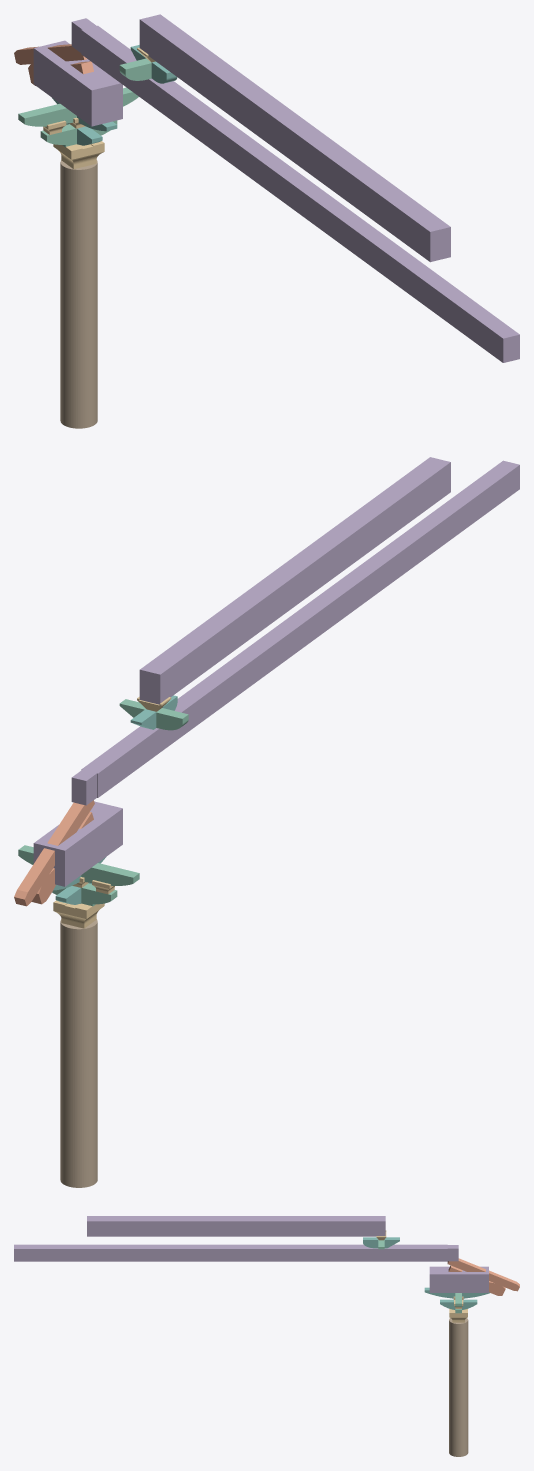
File: WANFO_EAST_FRONT_CONNECTED_C02_SEED.glb
3 renders of one model, top to bottom at view 1: azimuth 30°, elevation 25°; view 2: azimuth 150°, elevation 25°; view 3: azimuth 270°, elevation 25°, orthographic. The views are drawn at different scales.
Visible parts, largest first — view 1: trial:EAST_UPPER6_FULL_BEAM_CANDIDATE, east:FOUR_BEAM, trial:EAST_FRONT_COLUMN_CANDIDATE, trial:EAST_FRONT_LOWER6_END_SEGMENT, trial:EAST_FRONT_TRANSVERSE_MANGONG, trial:EAST_FRONT_COLUMN_LUDOU, trial:EAST_FRONT_ER_ANG_LOCAL, trial:EAST_FRONT_NIDAO_GUAZI, trial:EAST_FRONT_SPACER_LINGGONG, trial:EAST_FRONT_SPACER_HUAGONG; view 2: trial:EAST_UPPER6_FULL_BEAM_CANDIDATE, east:FOUR_BEAM, trial:EAST_FRONT_COLUMN_CANDIDATE, trial:EAST_FRONT_LOWER6_END_SEGMENT, trial:EAST_FRONT_ER_ANG_LOCAL, trial:EAST_FRONT_TRANSVERSE_MANGONG, trial:EAST_FRONT_COLUMN_LUDOU, trial:EAST_FRONT_SPACER_LINGGONG; view 3: trial:EAST_UPPER6_FULL_BEAM_CANDIDATE, east:FOUR_BEAM, trial:EAST_FRONT_COLUMN_CANDIDATE, trial:EAST_FRONT_LOWER6_END_SEGMENT, trial:EAST_FRONT_ER_ANG_LOCAL, trial:EAST_FRONT_SPACER_HUAGONG.
Part boxes in pixels (box(x1,y1,x2,y2)): trial:EAST_UPPER6_FULL_BEAM_CANDIDATE: box(71, 18, 519, 362); east:FOUR_BEAM: box(139, 14, 450, 262); trial:EAST_FRONT_COLUMN_CANDIDATE: box(60, 160, 97, 428); trial:EAST_FRONT_LOWER6_END_SEGMENT: box(33, 40, 122, 126); trial:EAST_FRONT_TRANSVERSE_MANGONG: box(18, 87, 138, 126); trial:EAST_FRONT_COLUMN_LUDOU: box(53, 141, 104, 169); trial:EAST_FRONT_ER_ANG_LOCAL: box(14, 44, 87, 64); trial:EAST_FRONT_NIDAO_GUAZI: box(40, 120, 117, 147); trial:EAST_FRONT_SPACER_LINGGONG: box(119, 58, 151, 80); trial:EAST_FRONT_SPACER_HUAGONG: box(130, 45, 177, 83); trial:EAST_UPPER6_FULL_BEAM_CANDIDATE: box(71, 460, 519, 805); east:FOUR_BEAM: box(139, 457, 450, 704); trial:EAST_FRONT_COLUMN_CANDIDATE: box(60, 919, 97, 1187); trial:EAST_FRONT_LOWER6_END_SEGMENT: box(33, 801, 122, 886); trial:EAST_FRONT_ER_ANG_LOCAL: box(14, 800, 94, 906); trial:EAST_FRONT_TRANSVERSE_MANGONG: box(18, 845, 139, 885); trial:EAST_FRONT_COLUMN_LUDOU: box(53, 900, 104, 928); trial:EAST_FRONT_SPACER_LINGGONG: box(119, 699, 188, 730); trial:EAST_UPPER6_FULL_BEAM_CANDIDATE: box(14, 1244, 458, 1261); east:FOUR_BEAM: box(87, 1216, 385, 1236); trial:EAST_FRONT_COLUMN_CANDIDATE: box(449, 1318, 468, 1456); trial:EAST_FRONT_LOWER6_END_SEGMENT: box(429, 1266, 488, 1292); trial:EAST_FRONT_ER_ANG_LOCAL: box(447, 1258, 519, 1291); trial:EAST_FRONT_SPACER_HUAGONG: box(363, 1237, 399, 1248).
Size of the model in its own units: 1.64 by 6.23 by 12.19.
